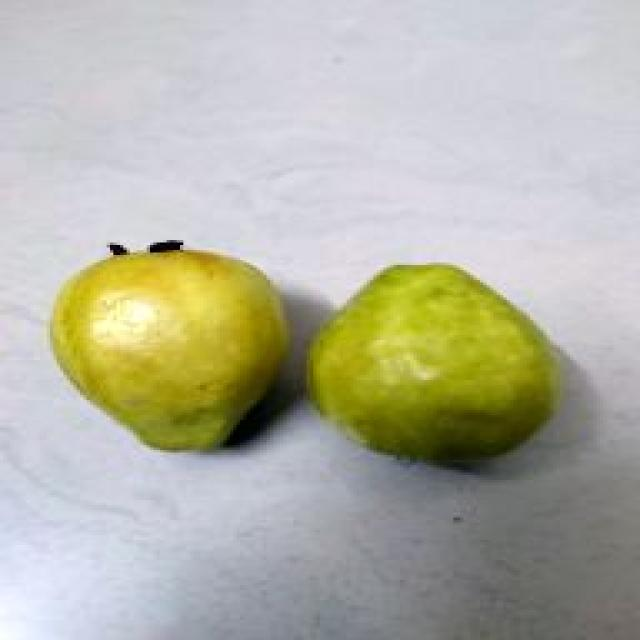Good_Guava: (303, 262, 563, 468), (47, 242, 290, 455)
